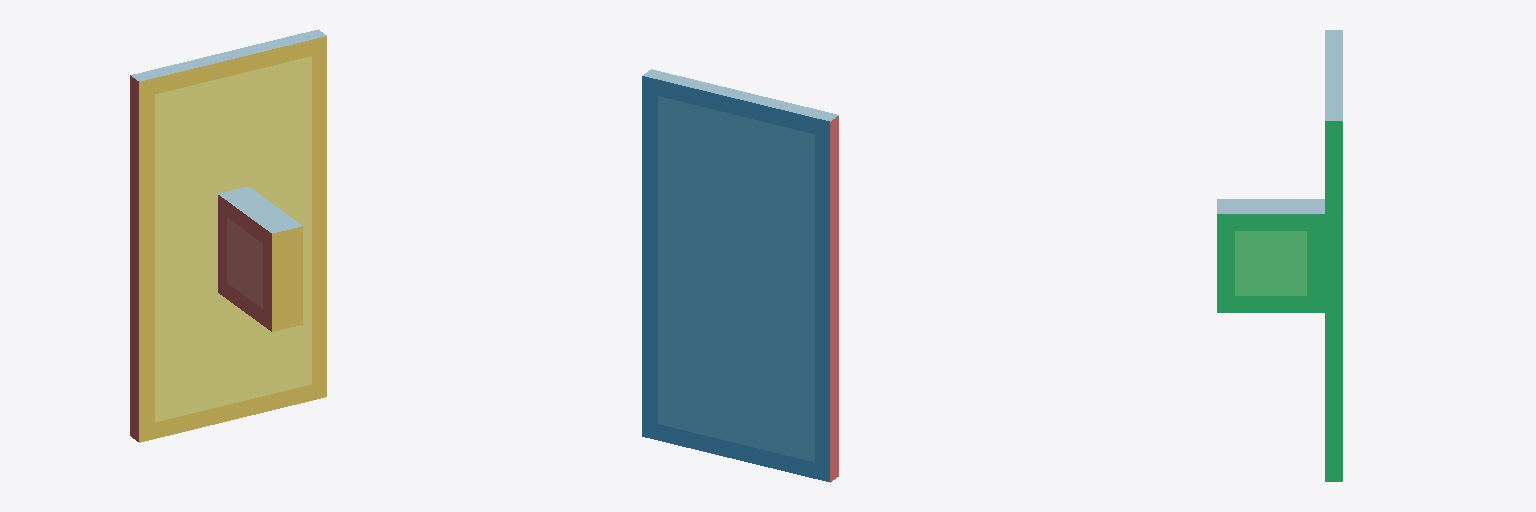
3 renders of one model, left to right at view 1: azimuth 30°, elevation 25°; view 2: azimuth 150°, elevation 25°; view 3: azimuth 270°, elevation 25°, orthographic.
Visible parts, largest first — view 1: shield; view 2: shield; view 3: shield.
Boxes of the visible parts, box(x1,y1,x2,y2) form: shield: box(130, 29, 326, 442); shield: box(642, 69, 838, 482); shield: box(1217, 30, 1342, 481).
Bounding box in the file's own units: 0.75 × 1.38 × 0.4375.
1 materials, 1 textured.